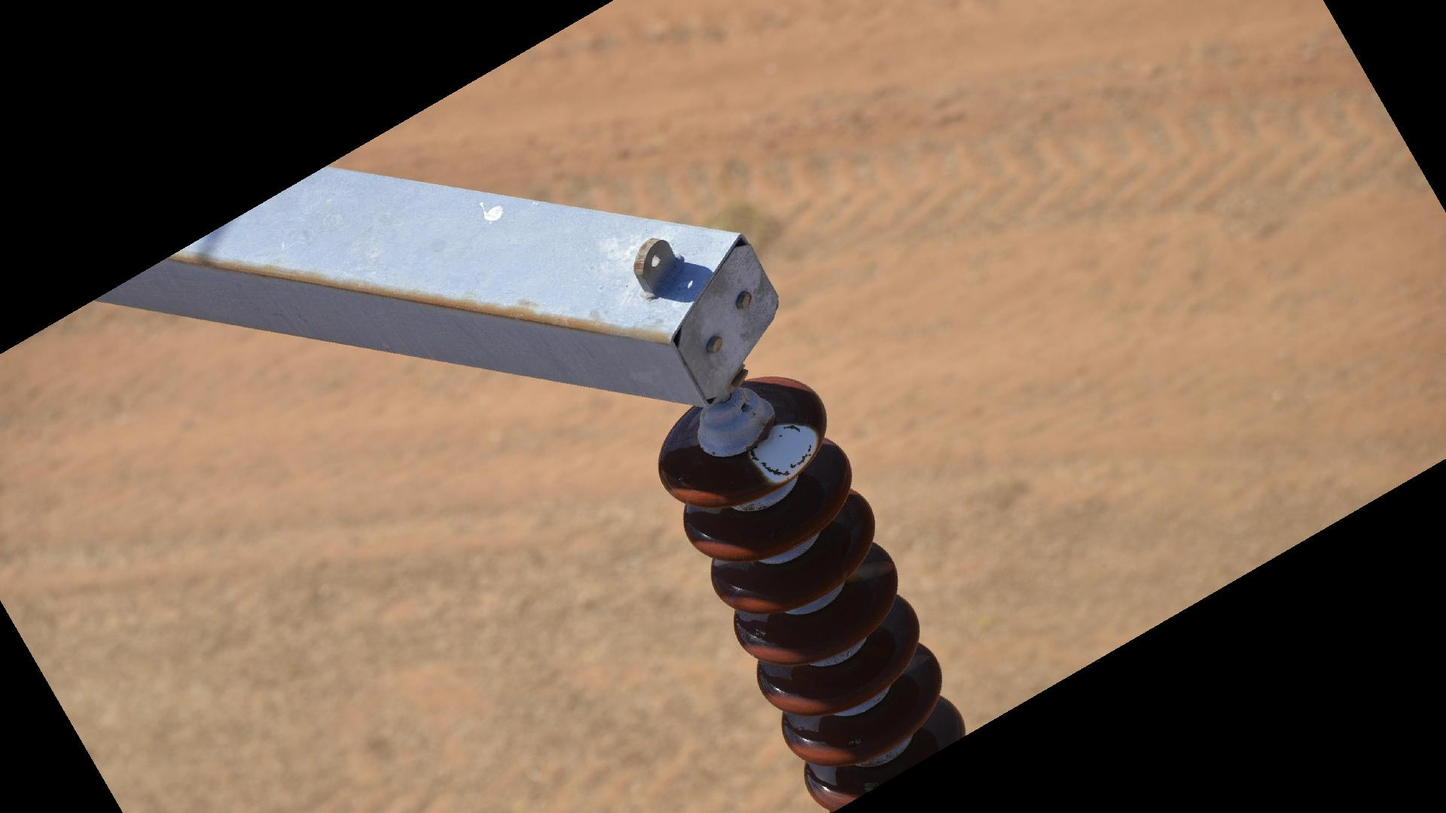insulator: (656, 370, 972, 813)
insulator_flashover: (746, 419, 822, 488)
